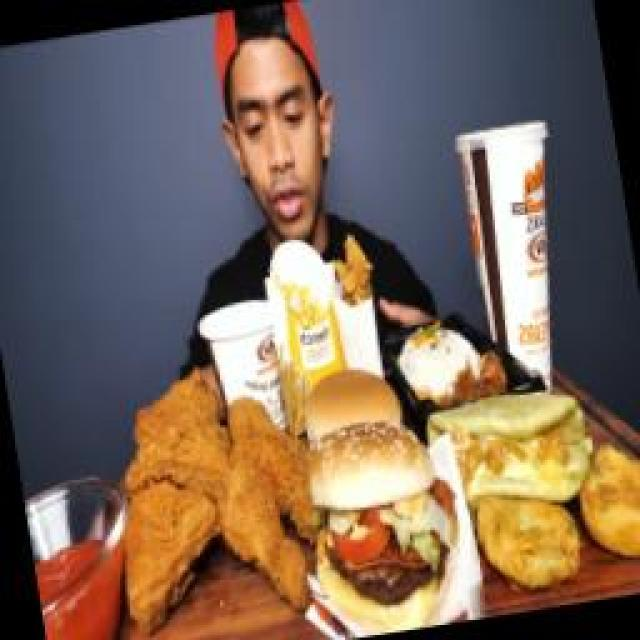AW cola: (440, 102, 595, 390)
black pepper rice bowl: (387, 313, 525, 433)
cheese burger: (288, 355, 418, 468)
chicken waffle: (320, 230, 388, 333)
crispy corn: (190, 293, 295, 436)
french fries: (265, 235, 348, 350)
fried chicken: (95, 360, 330, 625)
mango chicken pocket: (417, 360, 605, 518)
mozza burger: (290, 407, 475, 640)
perkedel: (458, 463, 601, 613), (567, 430, 640, 587)
